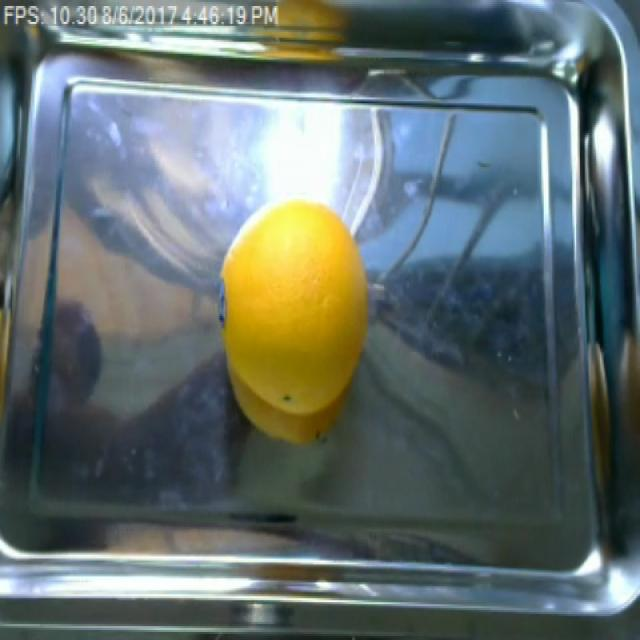Fruit: (215, 193, 373, 447), (74, 252, 202, 356), (269, 0, 355, 34)
